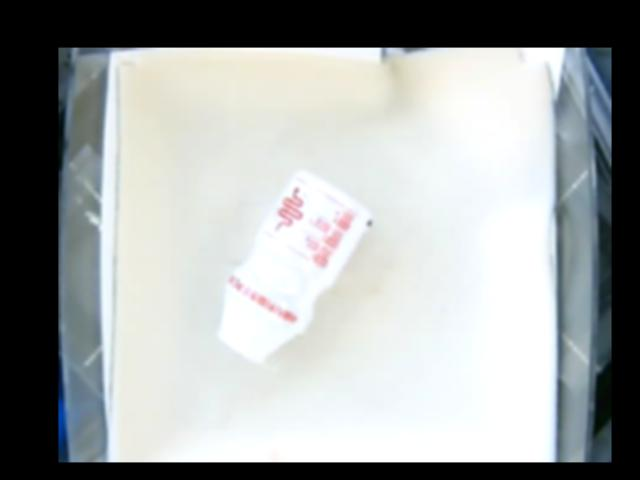Bottle: (218, 168, 371, 361)
